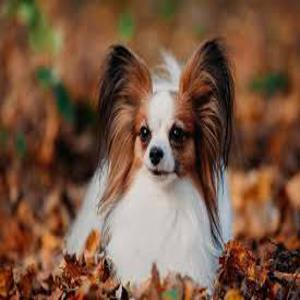yell: (62, 37, 236, 293)
